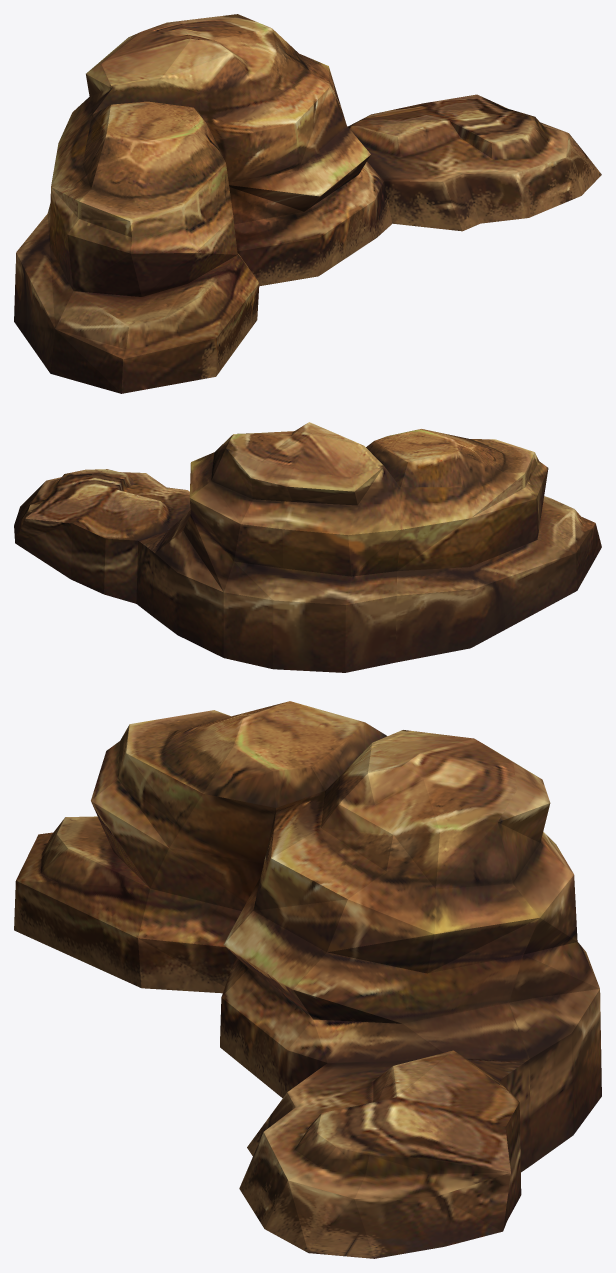
Rendered from ShiTou01.FBX.
3 views of the same model, one above another, from view 1: azimuth 30°, elevation 25°; view 2: azimuth 150°, elevation 25°; view 3: azimuth 270°, elevation 25° (orthographic). The views are drawn at different scales.
Visible parts, largest first — view 1: ShiTou01; view 2: ShiTou01; view 3: ShiTou01.
Part boxes in pixels (x1,y1,x2,y2): ShiTou01: (14,14,601,393); ShiTou01: (14,422,601,672); ShiTou01: (14,701,601,1258).
Bounding box in the file's own units: 1070 × 403 × 666.
